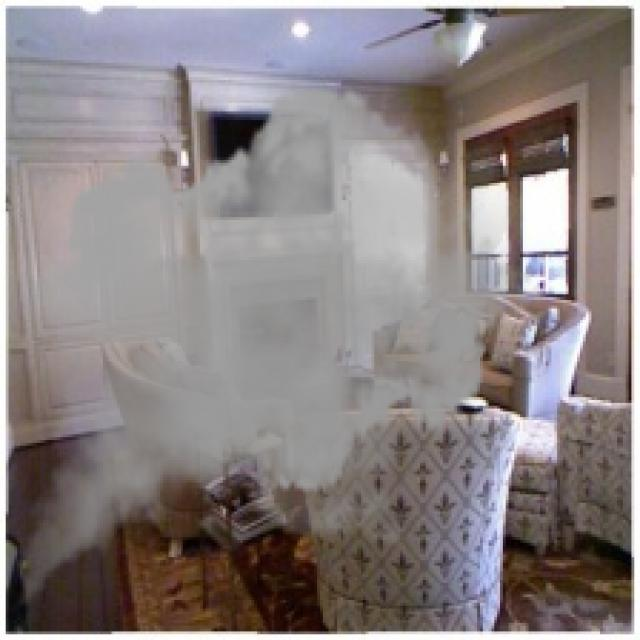smoke: (3, 72, 546, 637)
